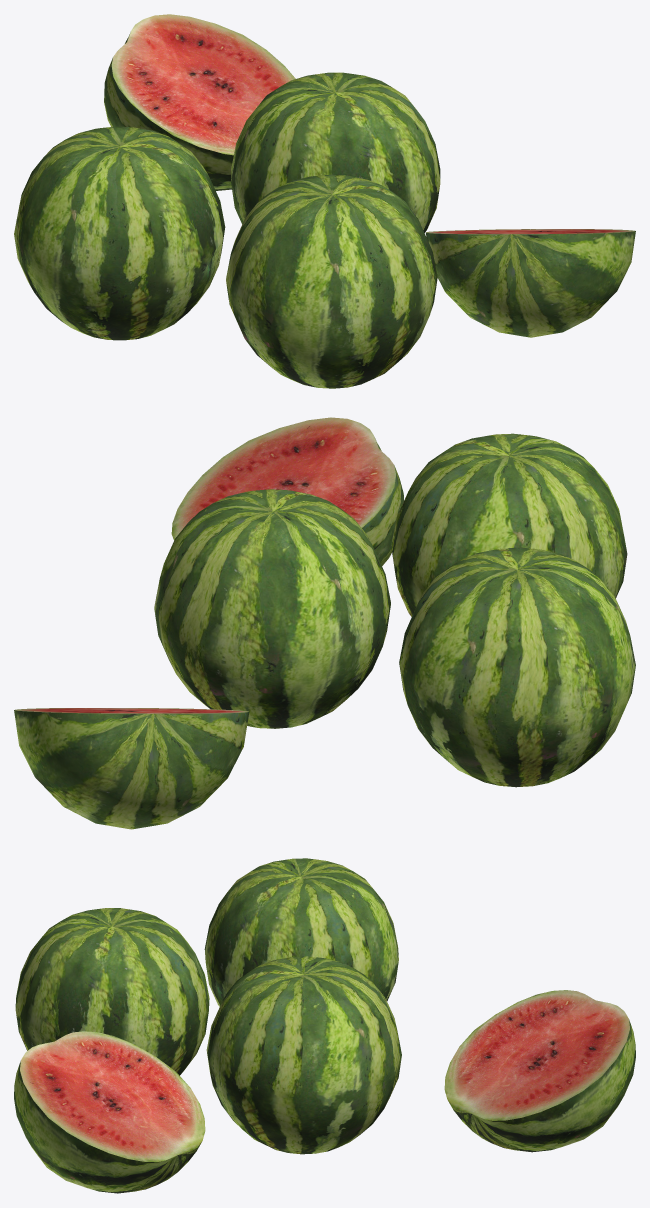
The model's file is Food_044.FBX.
The picture shows the model from 3 angles, top to bottom: view 1: azimuth 30°, elevation 25°; view 2: azimuth 150°, elevation 25°; view 3: azimuth 270°, elevation 25°; orthographic projection. The views are drawn at different scales.
Parts seen in each view (by area): view 1: Model_044_Watermelon_01, Model_044_Watermelon_04, Model_044_Watermelon_00, Model_044_Watermelon_03, Model_044_Watermelon_02; view 2: Model_044_Watermelon_01, Model_044_Watermelon_00, Model_044_Watermelon_04, Model_044_Watermelon_03, Model_044_Watermelon_02; view 3: Model_044_Watermelon_00, Model_044_Watermelon_02, Model_044_Watermelon_03, Model_044_Watermelon_04, Model_044_Watermelon_01.
Part boxes in pixels (<box>): Model_044_Watermelon_01: <box>14,126,225,340</box>; Model_044_Watermelon_04: <box>226,174,437,388</box>; Model_044_Watermelon_00: <box>231,72,440,232</box>; Model_044_Watermelon_03: <box>104,14,295,190</box>; Model_044_Watermelon_02: <box>426,229,635,337</box>; Model_044_Watermelon_01: <box>399,547,635,787</box>; Model_044_Watermelon_00: <box>154,489,390,728</box>; Model_044_Watermelon_04: <box>391,433,627,616</box>; Model_044_Watermelon_03: <box>14,708,249,829</box>; Model_044_Watermelon_02: <box>171,417,403,565</box>; Model_044_Watermelon_00: <box>206,956,401,1154</box>; Model_044_Watermelon_02: <box>14,1031,205,1193</box>; Model_044_Watermelon_03: <box>444,990,635,1152</box>; Model_044_Watermelon_04: <box>15,908,209,1075</box>; Model_044_Watermelon_01: <box>204,858,398,1006</box>.
Bounding box in the file's own units: 6.8 × 2.43 × 8.08.
